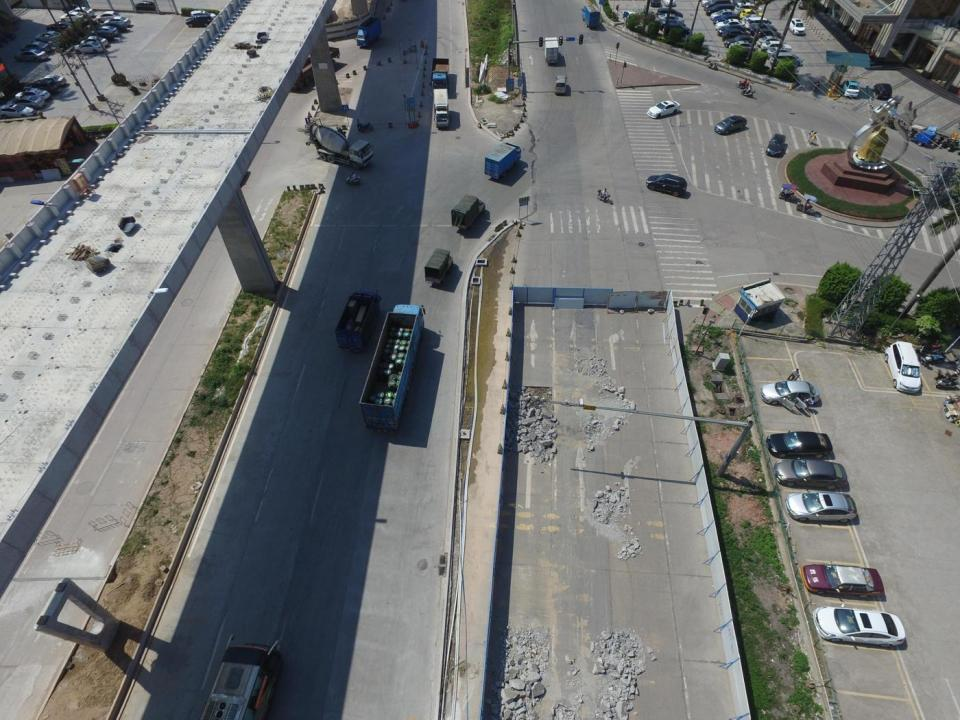bus: (201, 633, 280, 718)
car: (812, 604, 906, 648), (800, 561, 885, 599), (785, 488, 858, 523), (774, 457, 850, 489), (884, 341, 922, 392), (766, 430, 832, 458), (760, 380, 819, 409), (646, 174, 687, 196), (647, 101, 680, 119), (715, 116, 747, 134), (23, 79, 59, 94), (16, 86, 51, 101), (766, 133, 786, 158), (8, 97, 46, 109), (0, 104, 35, 117), (734, 3, 764, 16), (716, 17, 746, 30), (714, 12, 740, 27), (711, 8, 736, 23), (15, 50, 49, 61), (724, 34, 755, 46), (186, 15, 214, 28), (746, 17, 774, 30), (786, 18, 806, 36), (707, 4, 736, 16), (46, 21, 74, 33), (703, 0, 731, 12), (666, 24, 690, 38), (74, 42, 104, 53), (35, 30, 65, 41), (22, 41, 52, 52), (760, 40, 790, 51), (728, 40, 758, 51), (717, 24, 744, 36), (35, 75, 67, 85), (872, 83, 892, 99), (753, 28, 782, 39), (89, 29, 113, 42), (751, 23, 776, 35), (79, 36, 108, 46), (657, 14, 686, 24), (132, 0, 156, 12), (758, 35, 782, 47), (190, 10, 216, 21), (100, 21, 126, 32), (658, 8, 683, 19), (104, 16, 131, 26), (843, 80, 859, 96), (740, 9, 763, 20), (93, 25, 118, 35), (95, 11, 120, 21), (60, 12, 85, 22), (724, 29, 743, 42), (62, 3, 85, 13), (660, 20, 685, 29), (743, 14, 764, 24), (69, 8, 94, 16), (768, 48, 790, 55), (664, 0, 675, 7), (651, 0, 660, 6)
truck: (304, 117, 372, 168)
van: (358, 303, 425, 432), (335, 290, 382, 352), (288, 46, 340, 90), (485, 142, 521, 179), (452, 194, 485, 230), (424, 248, 453, 283), (355, 17, 383, 47), (434, 88, 450, 128), (431, 58, 449, 92), (769, 52, 801, 68), (544, 37, 559, 64), (582, 5, 600, 27), (555, 74, 568, 94)
